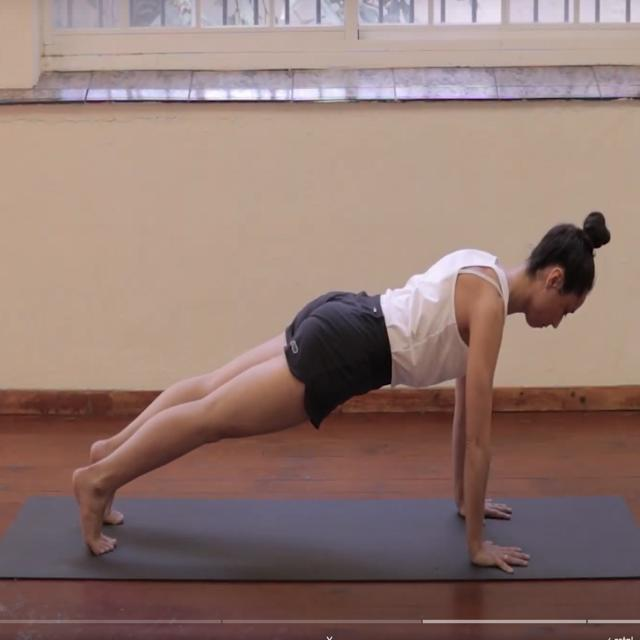Plank_Pose: (67, 209, 615, 584)
